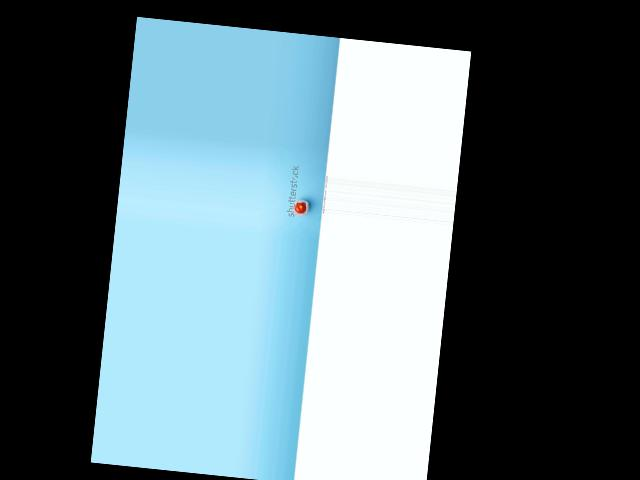tomato: (294, 201, 306, 213)
